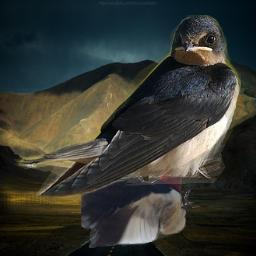Swallow: (14, 15, 241, 197)
Woodpecker: (81, 156, 200, 248)
